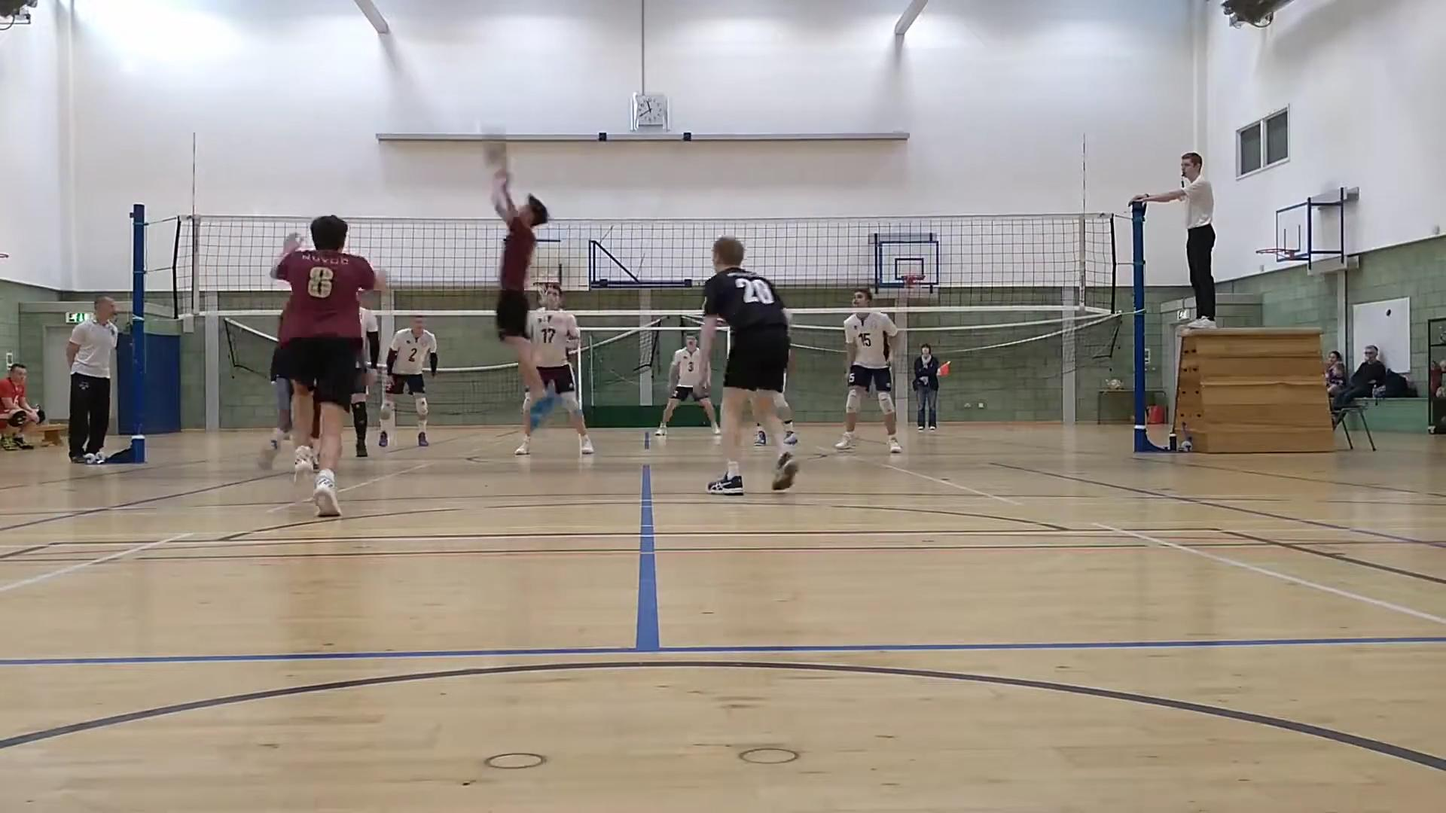Player: (272, 215, 381, 516), (700, 237, 798, 494), (834, 288, 902, 452), (529, 284, 593, 455), (379, 316, 438, 446), (655, 336, 721, 437), (350, 306, 380, 457), (258, 343, 292, 469), (775, 373, 798, 445)
Set: (487, 177, 557, 413)
ball: (479, 123, 514, 171)
